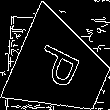P_SE: (33, 42, 89, 96)
